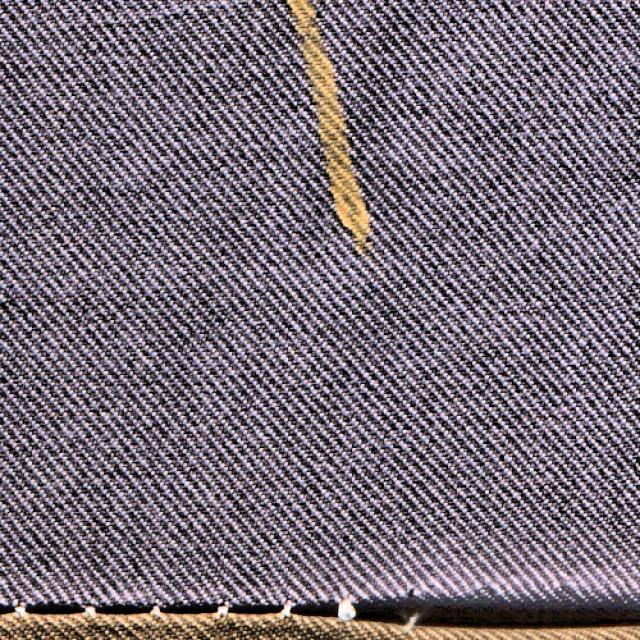seam: (307, 579, 638, 634)
